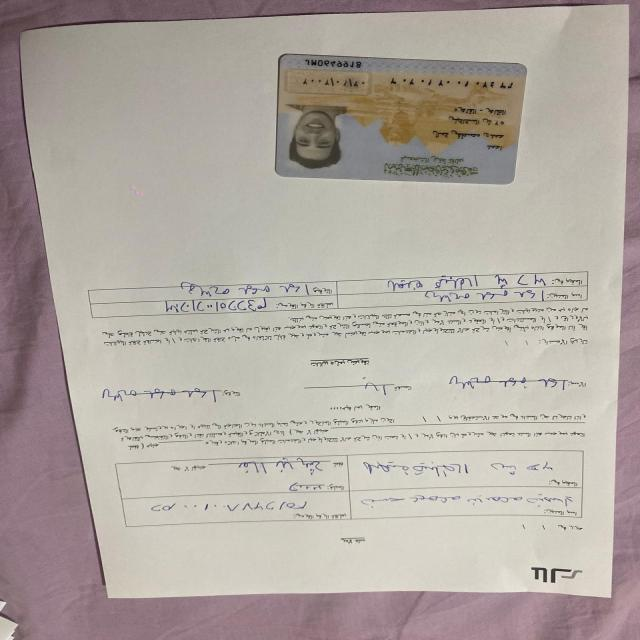id_card: (271, 50, 534, 189)
